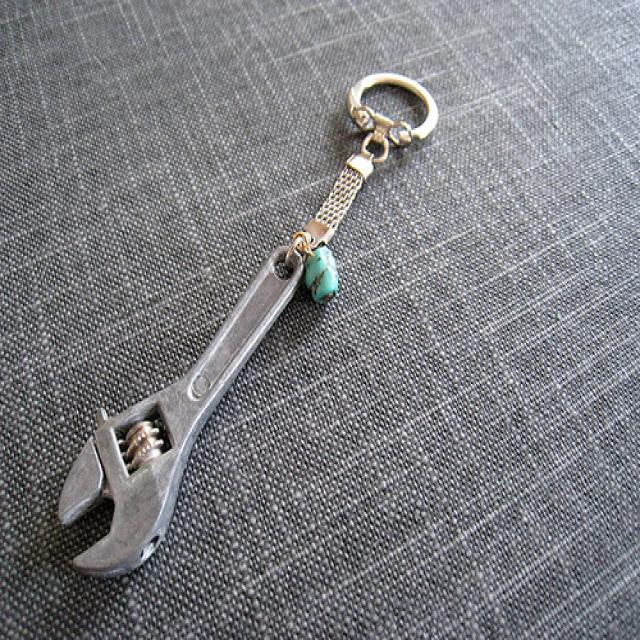wrench: (44, 235, 313, 598)
